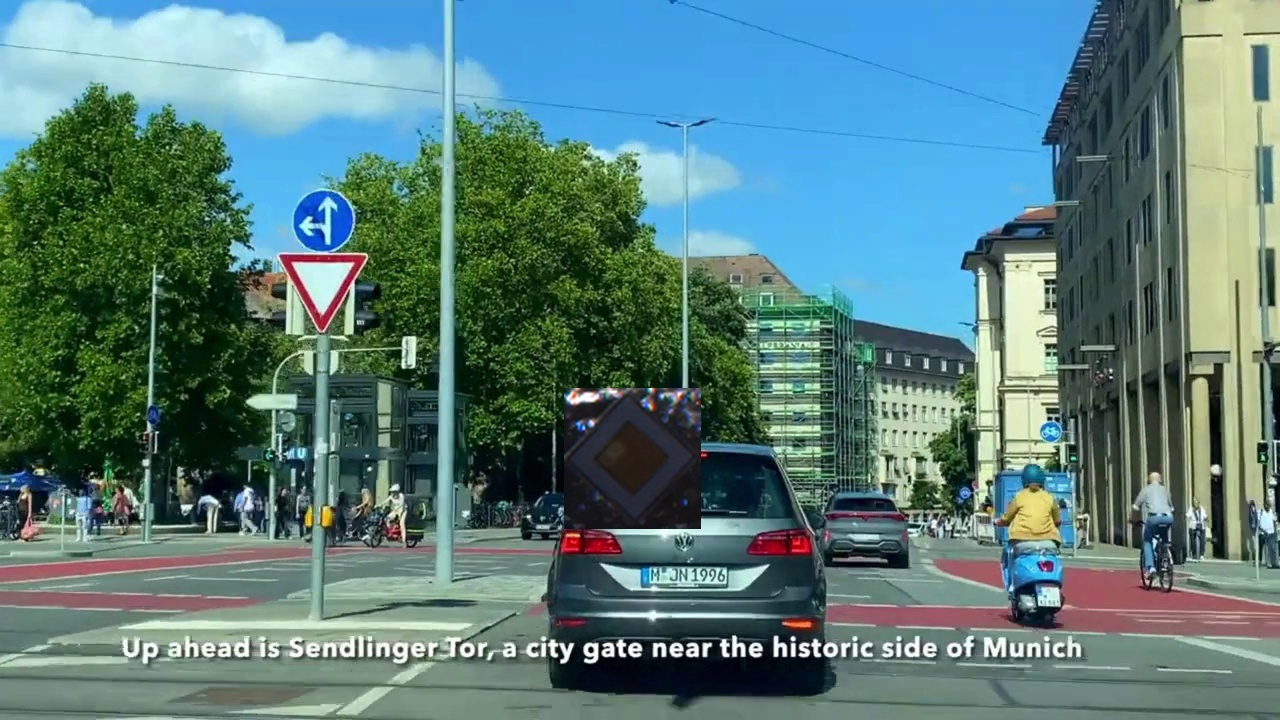Priority road: (564, 388, 701, 529)
